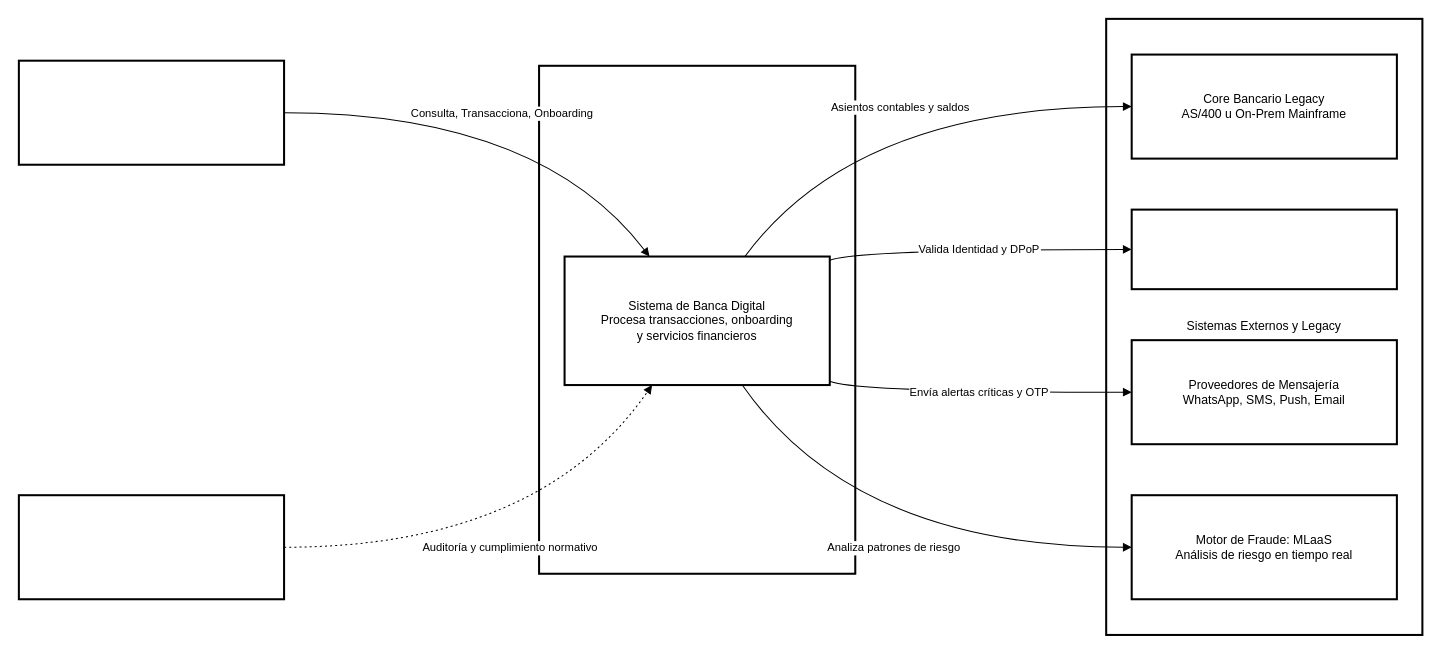
This 1440x653 diagram has some shape labels left out. Here are the shapes that lost their labels. From the top down, the centre of each, then its label:
At (151,112): "Cliente: Persona Natural/Jurídica Web SPA / Mobile App".
At (1263,249): "Identity Provider: FAPI 2.0 Gestión de identidad y Auth".
At (151,547): "Entes Reguladores: Ecuador Super de Bancos, UAFE, LOPDP".
